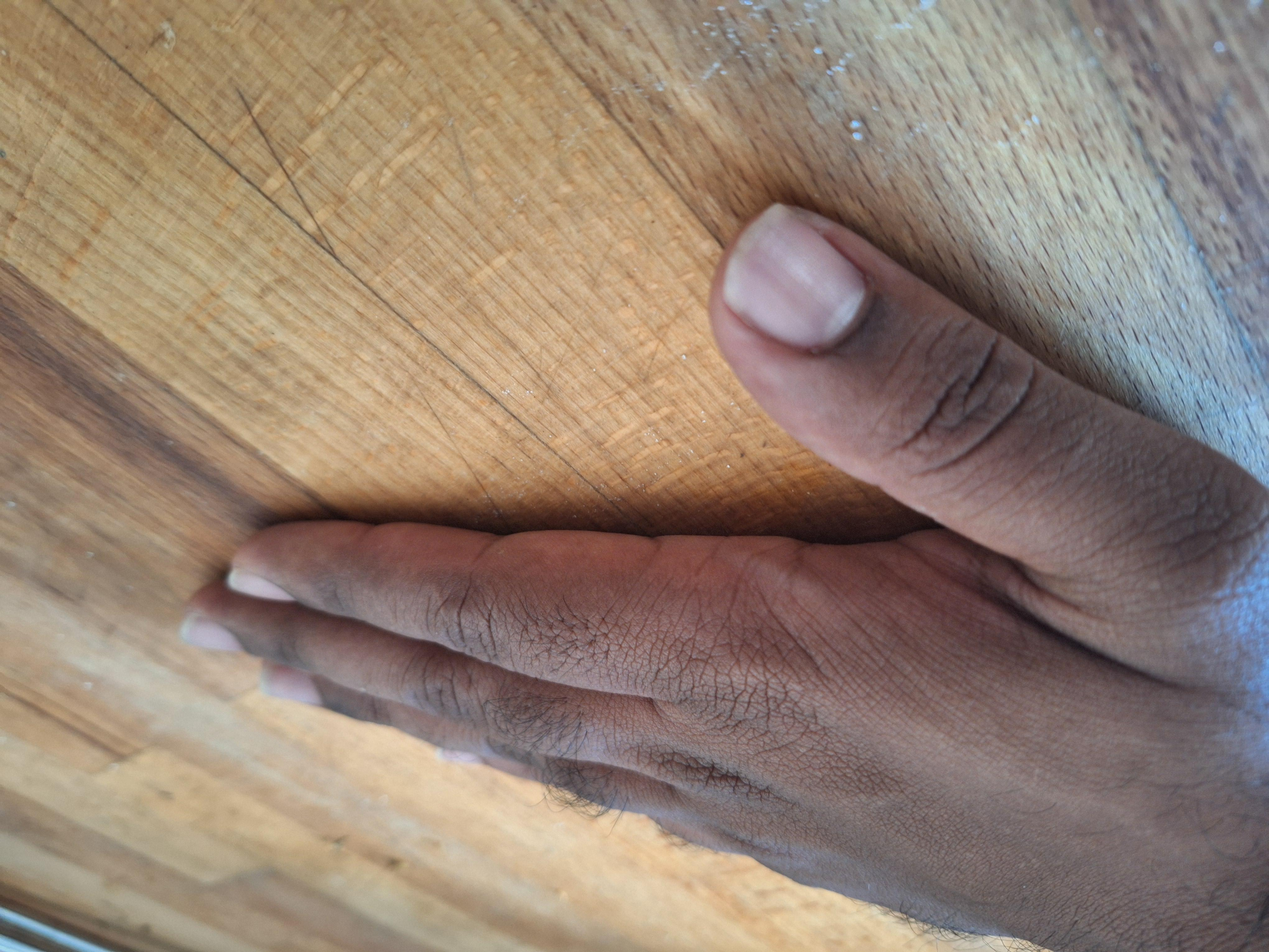Fingernail: (726, 203, 863, 350), (260, 668, 322, 707), (183, 616, 244, 652), (227, 572, 292, 602)
